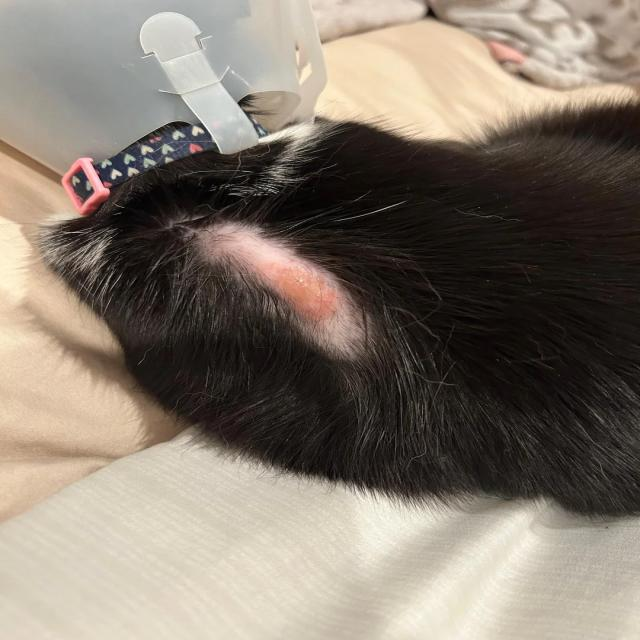cat-hairloss: (160, 199, 406, 377)
